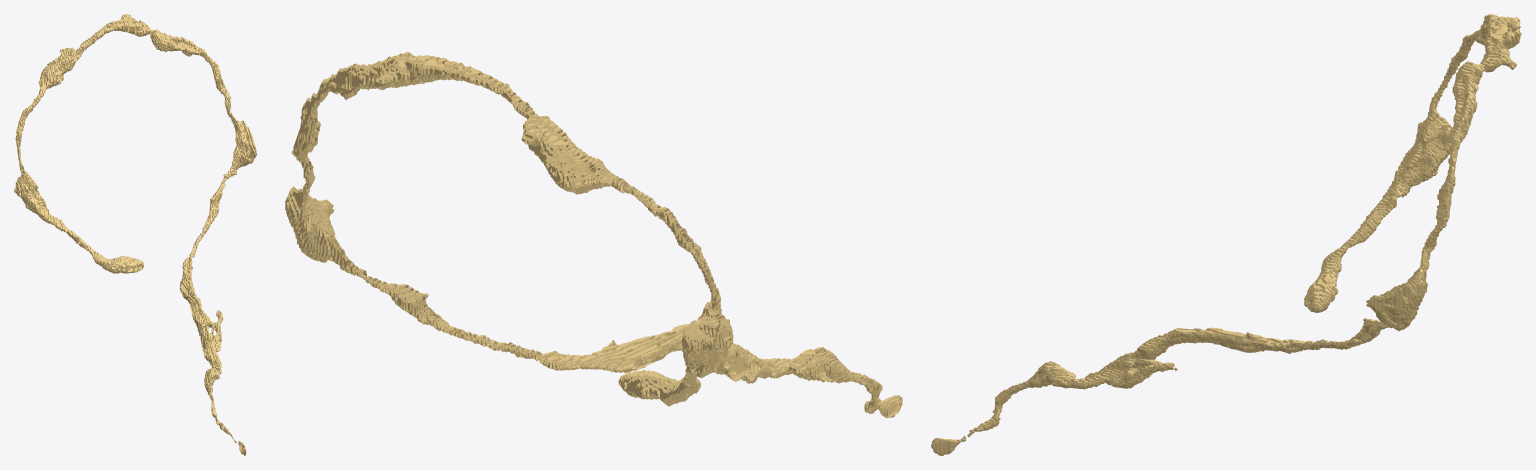
File: SVV_RIMR.gltf
The picture shows the model from 3 angles, left to right: view 1: azimuth 30°, elevation 25°; view 2: azimuth 150°, elevation 25°; view 3: azimuth 270°, elevation 25°; orthographic projection. The views are drawn at different scales.
Visible parts, largest first — view 1: RIMR; view 2: RIMR; view 3: RIMR.
Boxes of the visible parts, bbox=[...] form: RIMR: bbox=[14, 14, 256, 455]; RIMR: bbox=[285, 51, 902, 418]; RIMR: bbox=[931, 14, 1521, 455].
Bounding box in the file's own units: 138607 × 171540 × 195405.
